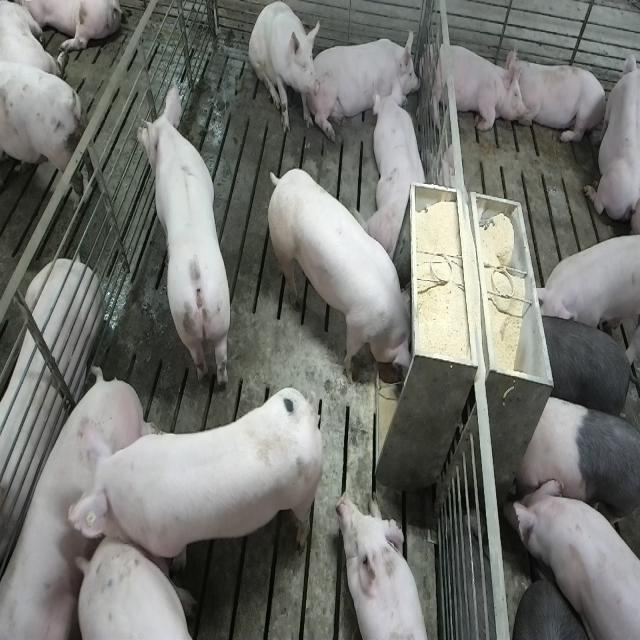Feeding: (272, 166, 420, 387)
Lateral_lying: (0, 369, 158, 640), (0, 257, 103, 614)
Sitting: (249, 2, 321, 137)
Standing: (69, 381, 323, 574), (136, 81, 234, 399), (504, 473, 638, 640), (514, 390, 638, 544), (0, 65, 101, 224), (74, 534, 212, 637), (532, 230, 640, 350), (534, 312, 637, 420)
Sternal_lying: (338, 493, 433, 640), (312, 27, 422, 135), (369, 81, 430, 262), (584, 40, 637, 229), (426, 36, 524, 134), (511, 52, 608, 146)
